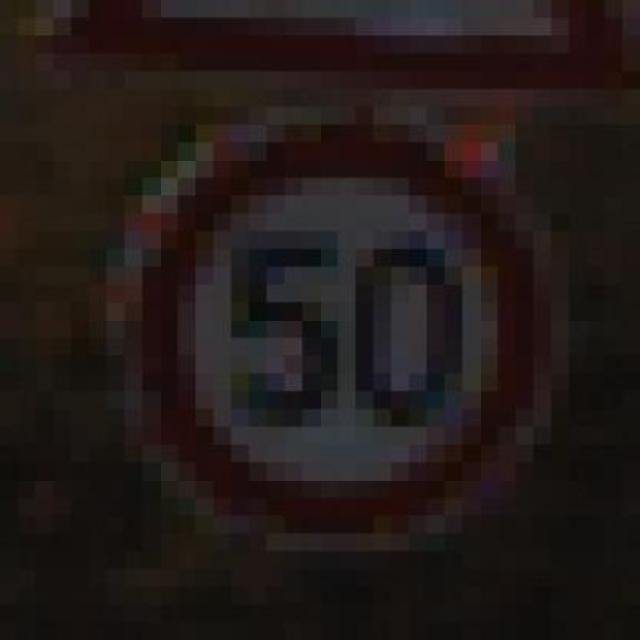forb_speed_over_50: (123, 107, 549, 538)
